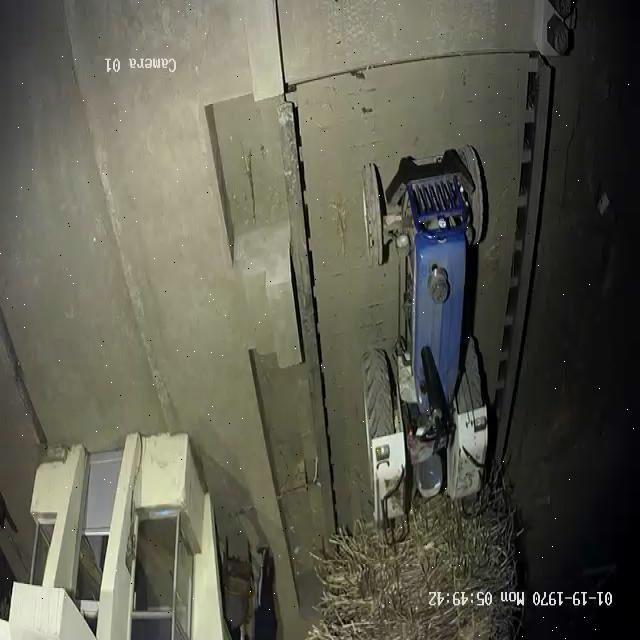Tratores - v5 YOLO V8L 2024-11-13: (355, 151, 492, 516)
